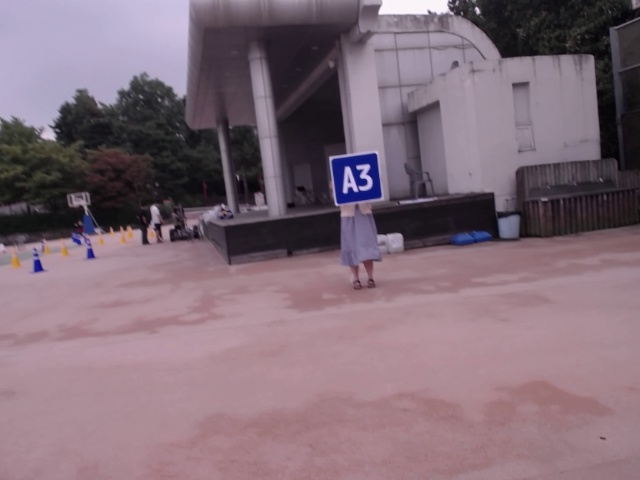delivery_a3: (330, 152, 385, 206)
